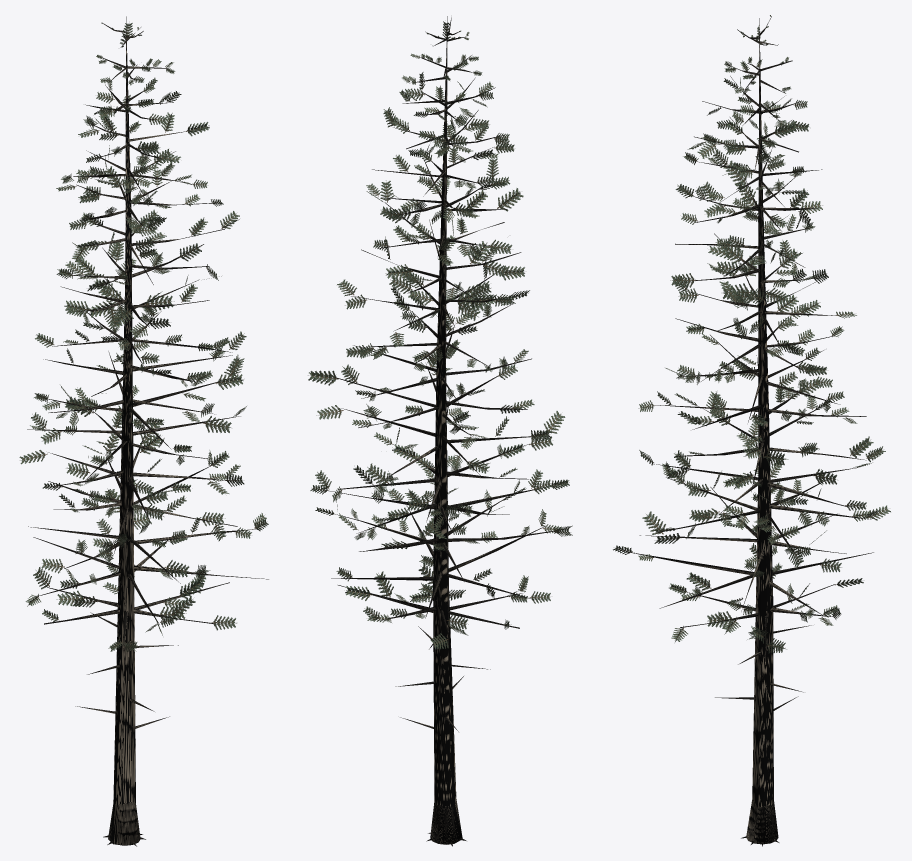
File: Sitka_OldLarge_02_Unpruned_LOD2.fbx
3 views of the same model, side by side, from view 1: azimuth 30°, elevation 25°; view 2: azimuth 150°, elevation 25°; view 3: azimuth 270°, elevation 25° (orthographic).
Parts seen in each view (by area): view 1: Sitka_OldLarge_02_Unpruned_LOD2; view 2: Sitka_OldLarge_02_Unpruned_LOD2; view 3: Sitka_OldLarge_02_Unpruned_LOD2.
Part boxes in pixels (x1=…): Sitka_OldLarge_02_Unpruned_LOD2: x1=19, y1=16, x2=268, y2=846; Sitka_OldLarge_02_Unpruned_LOD2: x1=308, y1=16, x2=572, y2=846; Sitka_OldLarge_02_Unpruned_LOD2: x1=613, y1=15, x2=890, y2=846.
Size of the model in its own units: 956 by 3000 by 960.
Materials: 2 (2 with a texture image).
